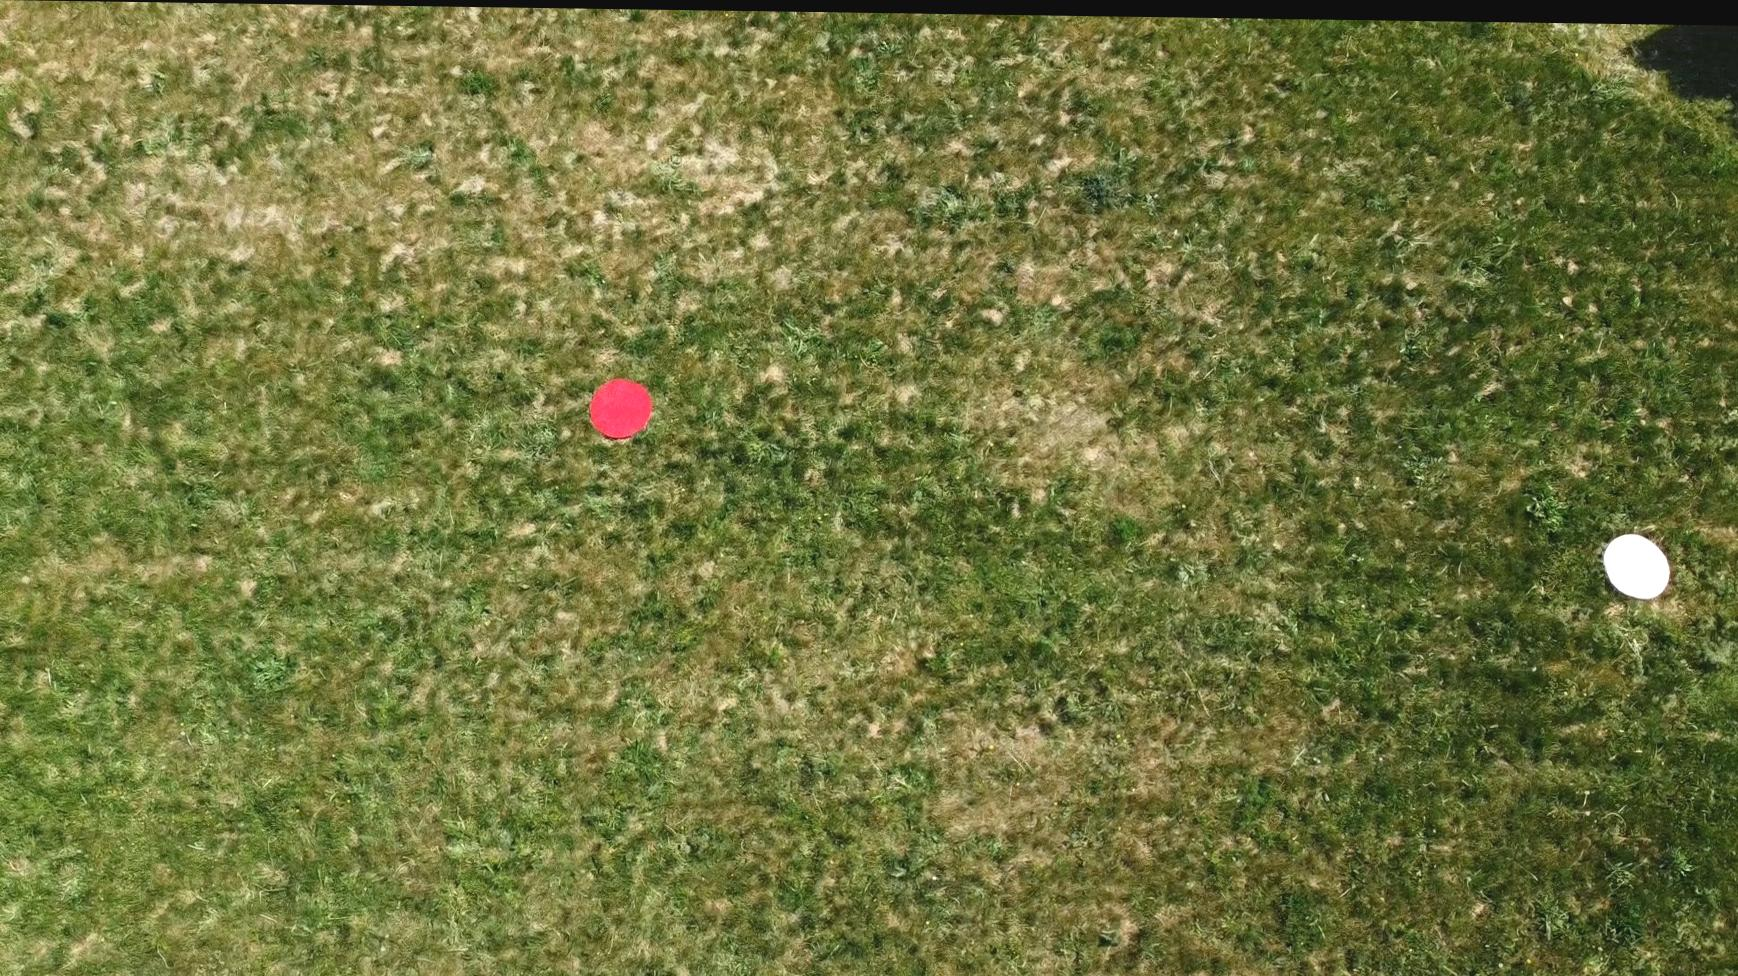Red: (1601, 525, 1674, 600), (587, 372, 658, 440)
